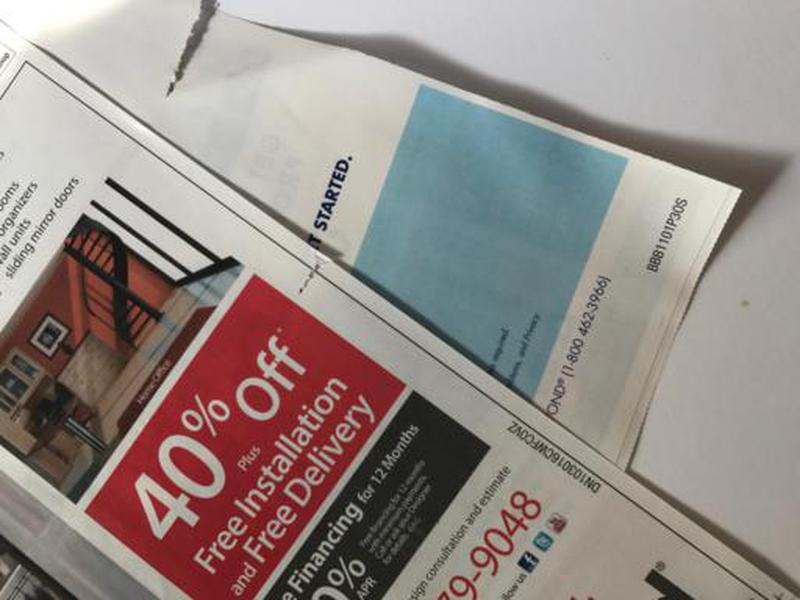paper: (1, 10, 794, 599)
